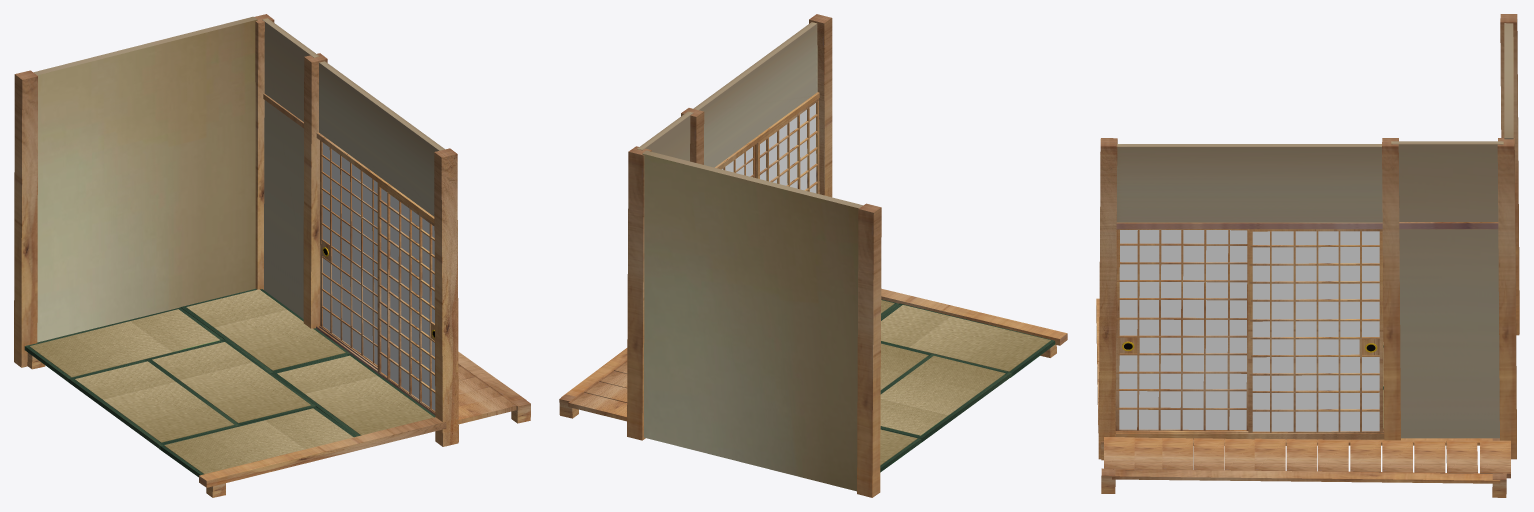
Rendered from washitsu01.glb.
The picture shows the model from 3 angles, left to right: view 1: azimuth 30°, elevation 25°; view 2: azimuth 150°, elevation 25°; view 3: azimuth 270°, elevation 25°; orthographic projection. The views are drawn at different scales.
Parts seen in each view (by area): view 1: mesh_id27.015, mesh_id30.001, mesh_id237, mesh_id27.016, mesh_id237.001, mesh_id27.017, mesh_id27, mesh_id27.012, mesh_id27.013, mesh_id27.023, mesh_id27.014, mesh_id124.001 (+3 smaller); view 2: mesh_id27.015, mesh_id30.001, mesh_id27.017, mesh_id27.012, mesh_id27.014, mesh_id237, mesh_id27, mesh_id27.023, mesh_id27.016, mesh_id27.005, mesh_id27.008, mesh_id27.013 (+3 smaller); view 3: mesh_id27.016, mesh_id237.001, mesh_id237, mesh_id27.017, mesh_id27.014, mesh_id27, mesh_id27.013, mesh_id27.005, mesh_id124.001, mesh_id27.012, mesh_id124, mesh_id27.015 (+14 smaller).
Part boxes in pixels (box(x1,y1,x2,y2)): mesh_id27.015: box(33, 16, 257, 342); mesh_id30.001: box(24, 288, 435, 477); mesh_id237: box(377, 183, 435, 412); mesh_id27.016: box(262, 18, 319, 318); mesh_id237.001: box(320, 140, 377, 366); mesh_id27.017: box(319, 61, 444, 216); mesh_id27: box(434, 148, 458, 446); mesh_id27.012: box(14, 70, 37, 367); mesh_id27.013: box(303, 53, 327, 328); mesh_id27.023: box(199, 417, 446, 487); mesh_id27.014: box(254, 14, 274, 289); mesh_id124.001: box(263, 93, 434, 223); mesh_id27.015: box(642, 150, 862, 491); mesh_id30.001: box(880, 299, 1055, 472); mesh_id27.017: box(693, 22, 817, 167); mesh_id27.012: box(857, 203, 881, 497); mesh_id27.014: box(627, 146, 651, 440); mesh_id237: box(754, 98, 819, 193); mesh_id27: box(809, 14, 832, 197); mesh_id27.023: box(881, 288, 1067, 345); mesh_id27.016: box(637, 111, 693, 161); mesh_id27.005: box(559, 348, 627, 418); mesh_id27.008: box(568, 392, 627, 421); mesh_id27.013: box(681, 108, 704, 164); mesh_id27.016: box(1391, 141, 1503, 438); mesh_id237.001: box(1248, 229, 1383, 433); mesh_id237: box(1115, 229, 1248, 431); mesh_id27.017: box(1116, 144, 1382, 222); mesh_id27.014: box(1497, 138, 1516, 459); mesh_id27: box(1098, 138, 1117, 459); mesh_id27.013: box(1382, 138, 1400, 440); mesh_id27.005: box(1101, 468, 1506, 497); mesh_id124.001: box(1116, 222, 1498, 229); mesh_id27.012: box(1500, 14, 1519, 335); mesh_id124: box(1115, 428, 1384, 439); mesh_id27.015: box(1504, 23, 1513, 139).
Size of the model in its own units: 3.92 by 3.32 by 4.05.
86 materials, 86 textured.
